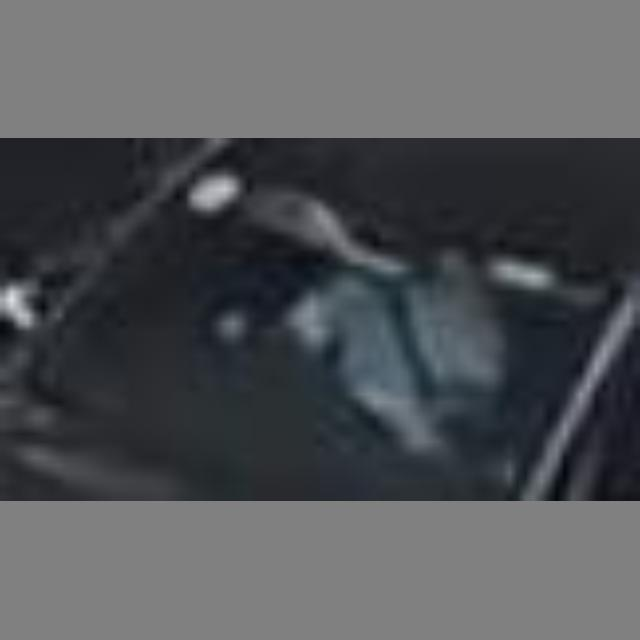pakai: (277, 217, 529, 438)
